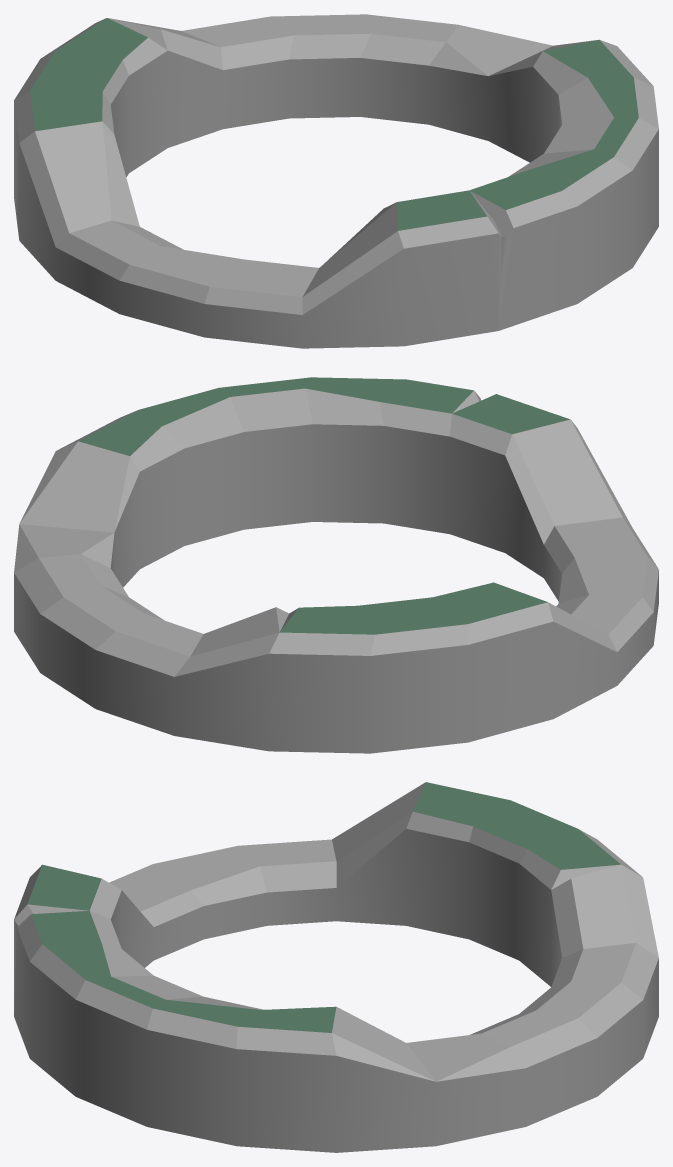
3 views of the same model, one above another, from view 1: azimuth 30°, elevation 25°; view 2: azimuth 150°, elevation 25°; view 3: azimuth 270°, elevation 25° (orthographic).
Visible parts, largest first — view 1: Circle02; view 2: Circle02; view 3: Circle02.
Part boxes in pixels (x1,y1,x2,y2): Circle02: (14,14,658,348); Circle02: (14,377,658,753); Circle02: (14,782,658,1152).
Bounding box in the file's own units: 1.4 × 0.2643 × 1.4.
